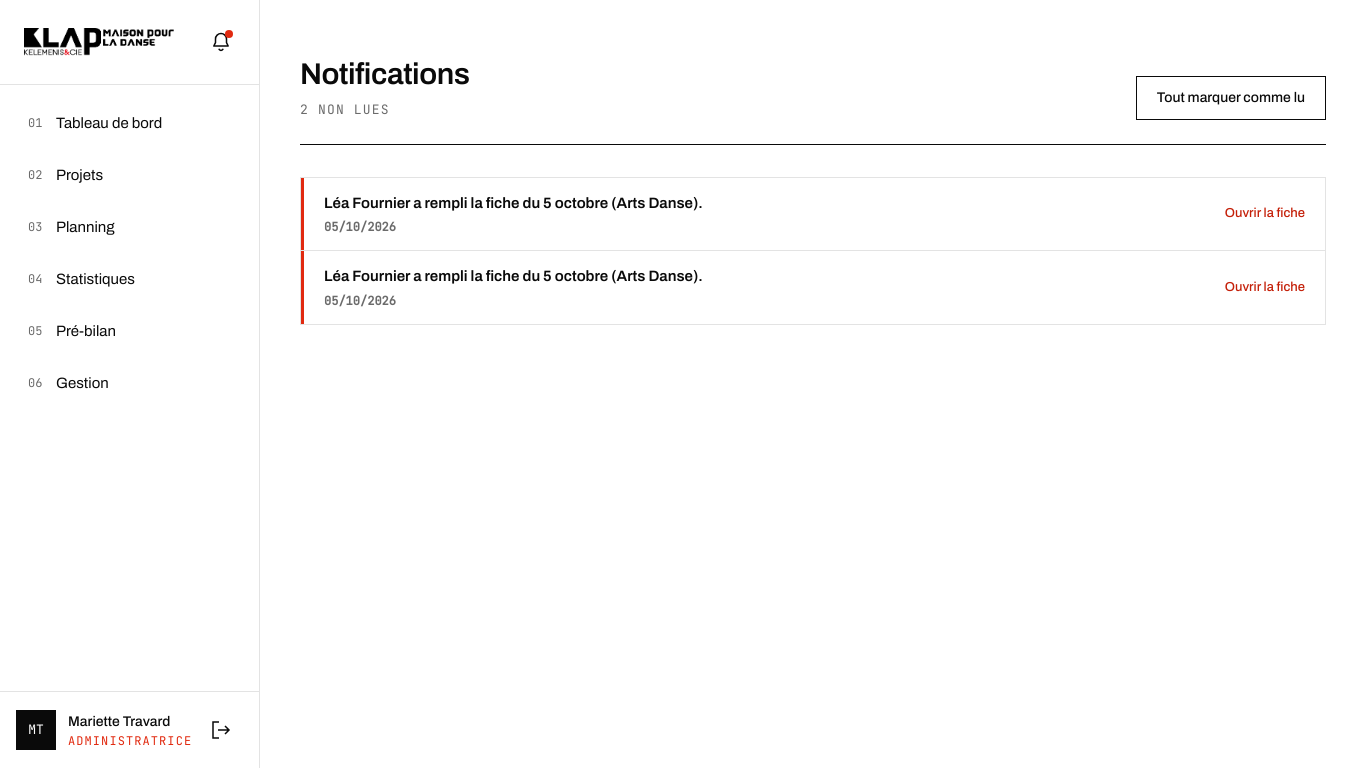
Test: Page Notifications › tout marquer comme lu remet la cloche à zéro
What coordinates should you click on to do the following:
click the button "Tout marquer comme lu"
I would click on:
 (1231, 98)
Its box is top-left (1136, 76), bottom-right (1326, 120).
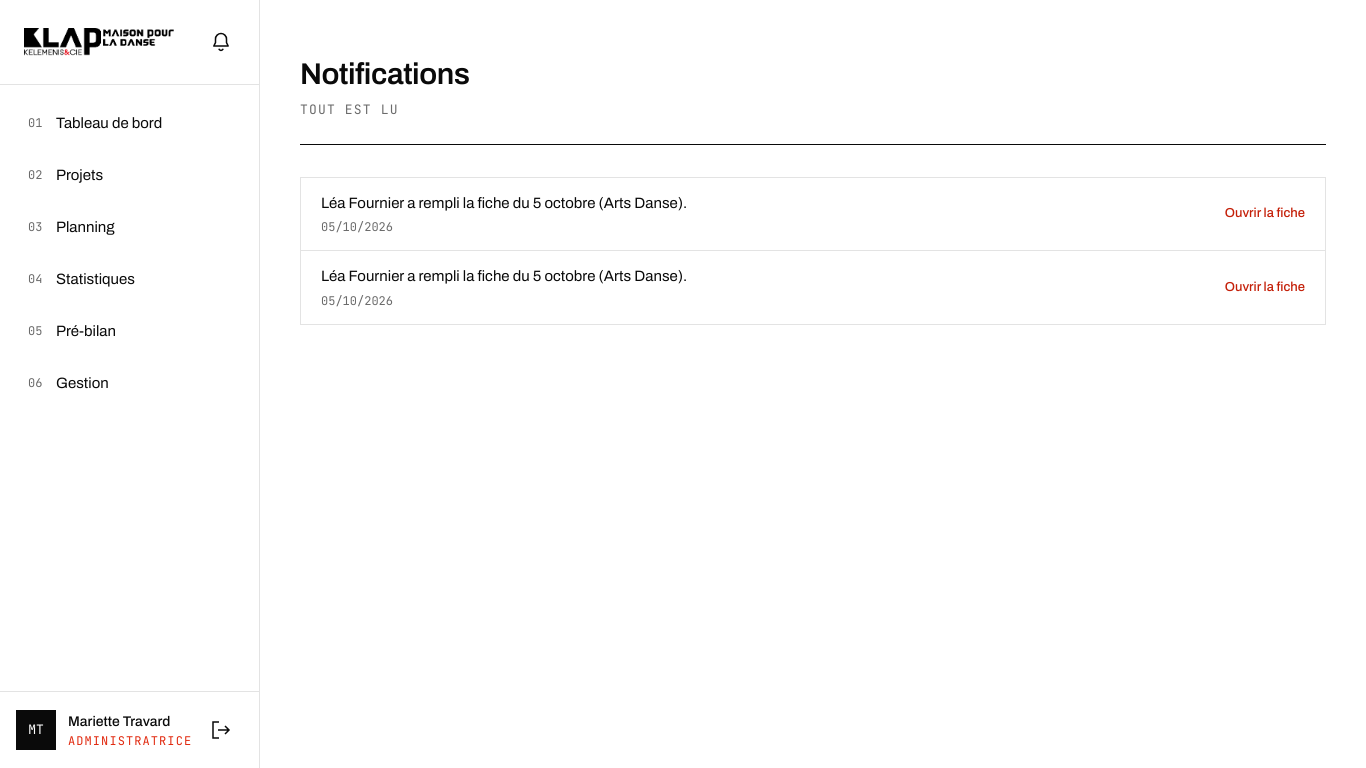
Now the text "Tout est lu" is shown, box top-left (300, 101), bottom-right (399, 118)
Now the button "Tout marquer comme lu" is gone
